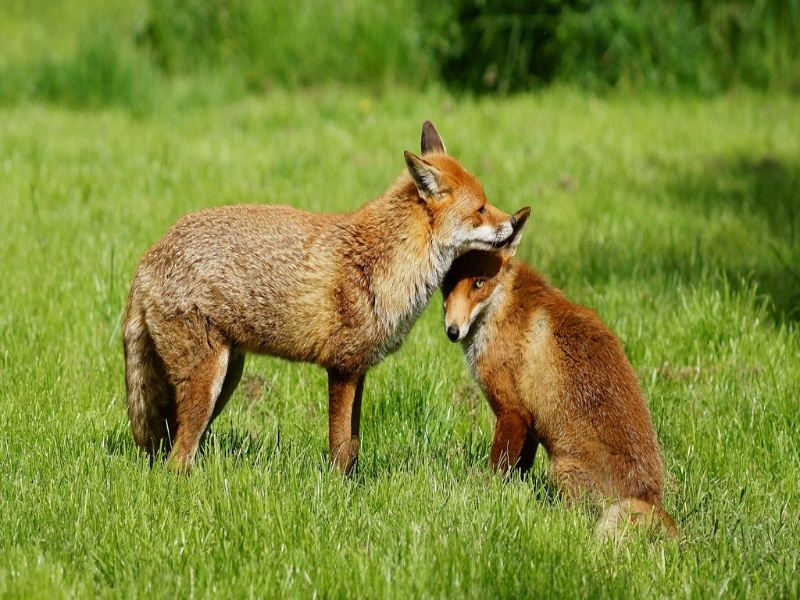fox: (107, 112, 514, 494), (433, 196, 686, 562)
